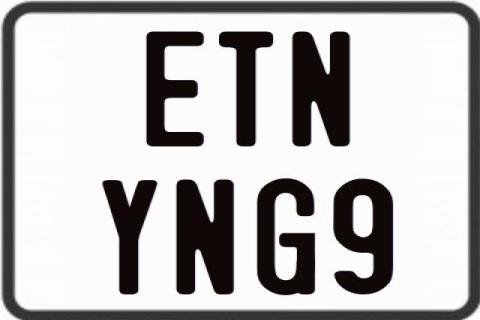0: (332, 177, 396, 297)
E: (143, 29, 205, 149)
G: (256, 177, 320, 295)
N: (289, 31, 350, 149), (173, 177, 231, 297)
T: (219, 30, 278, 146)
Y: (104, 179, 161, 297)
